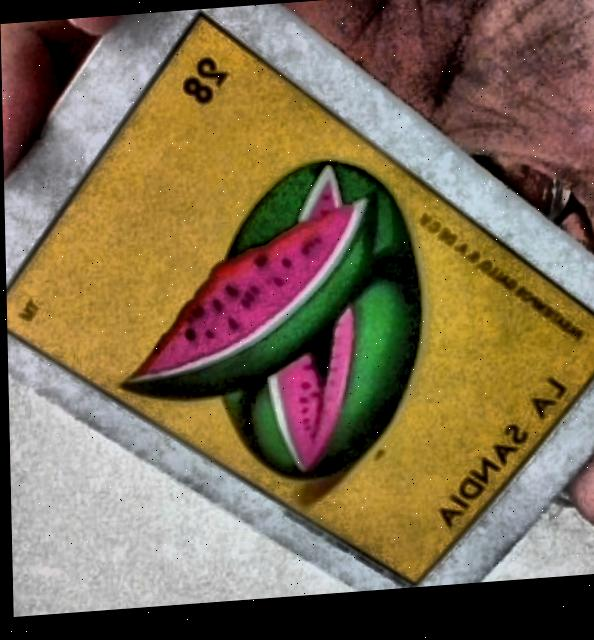La Sandia: (5, 15, 594, 593)
